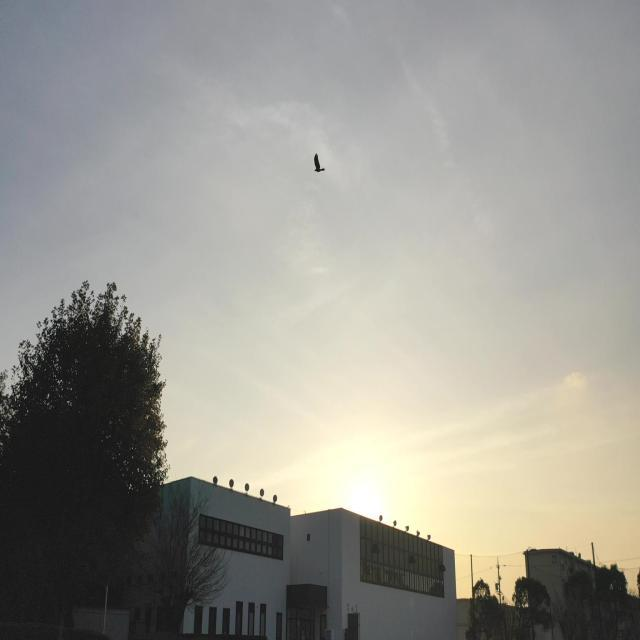Birds: (306, 142, 332, 181)
